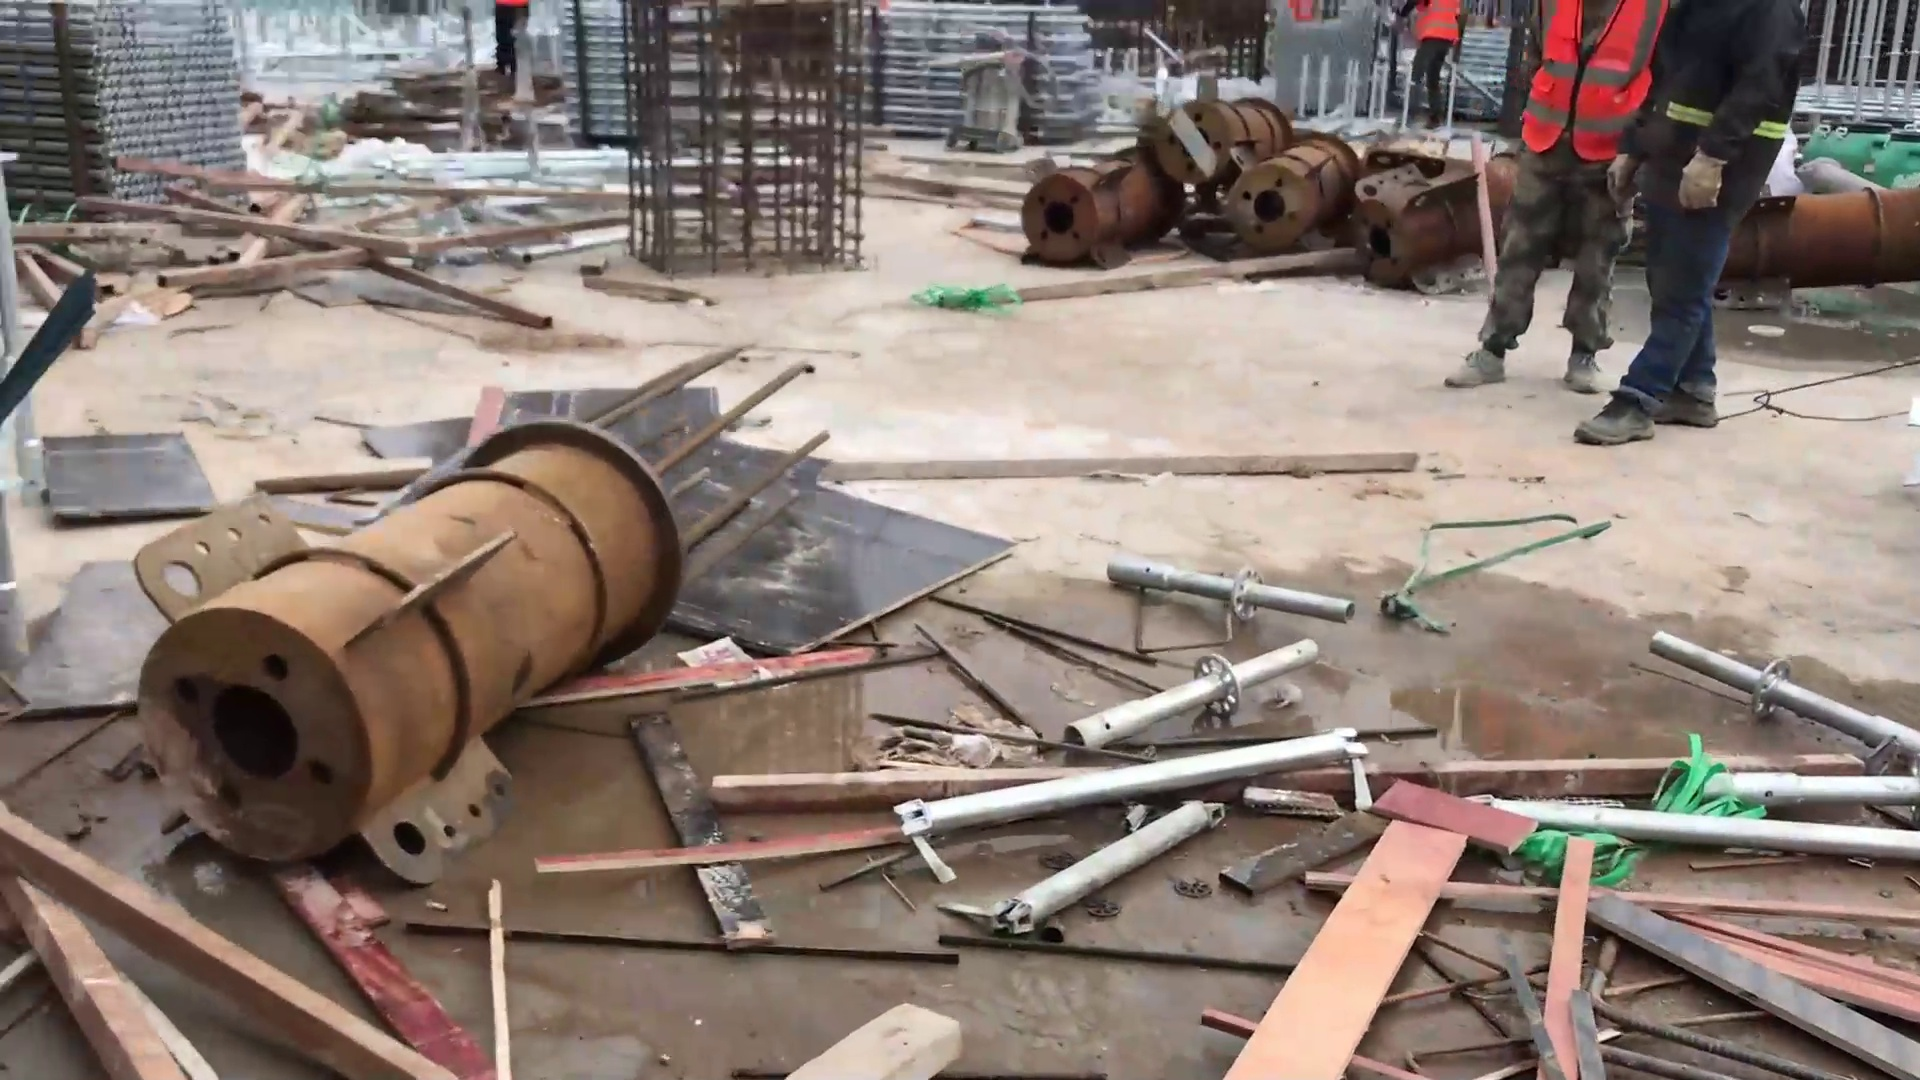person: (1573, 1, 1847, 465), (1489, 6, 1612, 396), (1390, 4, 1470, 135)
vest: (1523, 1, 1666, 158), (1416, 1, 1452, 38)
